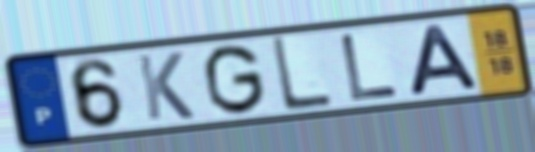6: (66, 56, 126, 132)
A: (404, 22, 484, 98)
G: (202, 41, 269, 118)
K: (133, 49, 198, 123)
L: (267, 34, 335, 115), (336, 31, 403, 104)
